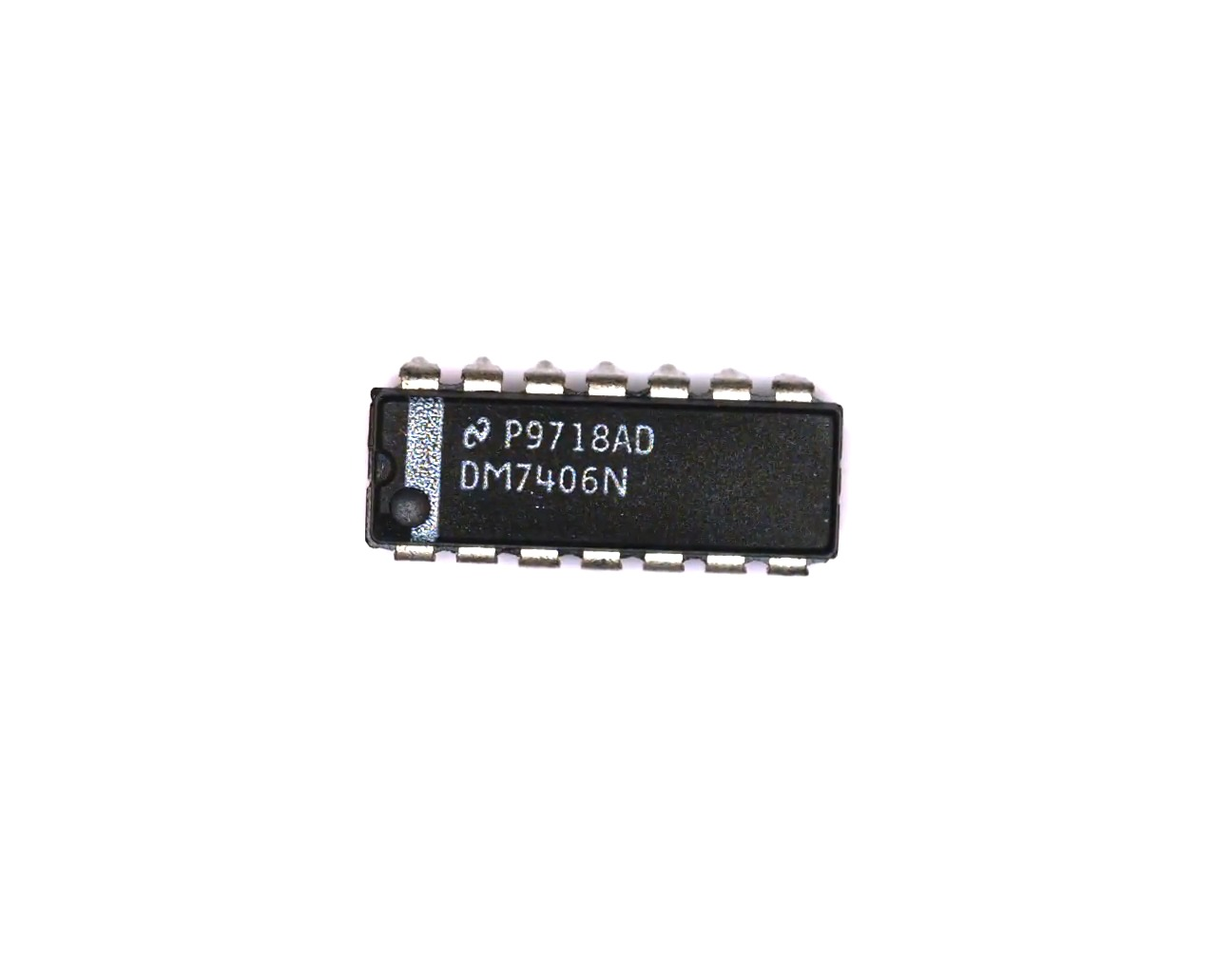IC: (358, 350, 851, 584)
notch: (364, 451, 402, 489)
